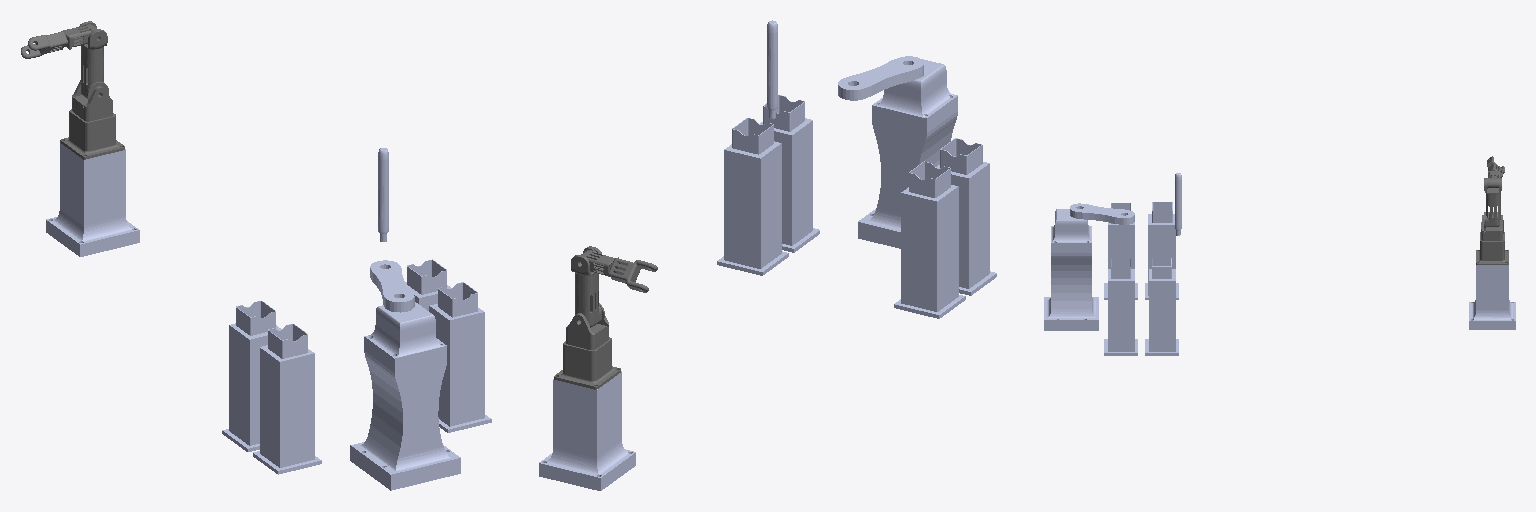
URDF robot description (full_station):
<?xml version="1.0" encoding="utf-8" ?>
<!-- This URDF was automatically created by SolidWorks to URDF Exporter! Originally created by [author] ([email redacted]) 
     Commit Version: 1.6.0-4-g7f85cfe  Build Version: 1.6.7995.38578
     For more information, please see http://wiki.ros.org/sw_urdf_exporter -->
<robot name="full_station">
    <link name="world_link">
        <inertial>
            <origin xyz="-0.379999991843833 -0.241999995946268 0.282642145469613" rpy="0 0 0" />
            <mass value="56.5143635061382" />
            <inertia ixx="3.10383758638064" ixy="9.38103874984871E-07" ixz="-4.57009880018058E-07" iyy="3.00109559506483" iyz="3.89931023770341E-08" izz="0.915005919197952" />
        </inertial>
        <visual>
            <origin xyz="0 0 0" rpy="0 0 0" />
            <geometry>
                <mesh filename="package://full_station/meshes/world_link.STL" />
            </geometry>
            <material name="">
                <color rgba="0.792156862745098 0.819607843137255 0.933333333333333 1" />
            </material>
        </visual>
        <collision>
            <origin xyz="0 0 0" rpy="0 0 0" />
            <geometry>
                <mesh filename="package://full_station/meshes/world_link.STL" />
            </geometry>
        </collision>
    </link>
    <link name="scara_link_base">
        <inertial>
            <origin xyz="4.11981024295294E-09 -0.00144952651535979 0.0824742549468586" rpy="0 0 0" />
            <mass value="10.0938987184175" />
            <inertia ixx="0.0864487528577416" ixy="-7.67600083955327E-08" ixz="-3.5428860438845E-09" iyy="0.0762174394798054" iyz="0.000783155397267453" izz="0.100368960083761" />
        </inertial>
        <visual>
            <origin xyz="0 0 0" rpy="0 0 0" />
            <geometry>
                <mesh filename="package://full_station/meshes/scara_link_base.STL" />
            </geometry>
            <material name="">
                <color rgba="0.792156862745098 0.819607843137255 0.933333333333333 1" />
            </material>
        </visual>
        <collision>
            <origin xyz="0 0 0" rpy="0 0 0" />
            <geometry>
                <mesh filename="package://full_station/meshes/scara_link_base.STL" />
            </geometry>
        </collision>
    </link>
    <joint name="scara_joint_base" type="fixed">
        <origin xyz="-0.38 -0.242 0.650000000000001" rpy="0 0 0" />
        <parent link="world_link" />
        <child link="scara_link_base" />
        <axis xyz="0 0 0" />
    </joint>
    <link name="scara_link_1">
        <inertial>
            <origin xyz="0.0554575444613901 0.165564551542507 0.0275000000000012" rpy="0 0 0" />
            <mass value="3.3230838247481" />
            <inertia ixx="0.0576270026353463" ixy="-0.0171642772796708" ixz="-2.70417399982433E-18" iyy="0.0119905480517804" iyz="-7.48561635465443E-18" izz="0.0679421595859383" />
        </inertial>
        <visual>
            <origin xyz="0 0 0" rpy="0 0 0" />
            <geometry>
                <mesh filename="package://full_station/meshes/scara_link_1.STL" />
            </geometry>
            <material name="">
                <color rgba="0.792156862745098 0.819607843137255 0.933333333333333 1" />
            </material>
        </visual>
        <collision>
            <origin xyz="0 0 0" rpy="0 0 0" />
            <geometry>
                <mesh filename="package://full_station/meshes/scara_link_1.STL" />
            </geometry>
        </collision>
    </link>
    <joint name="scara_joint_1" type="revolute">
        <origin xyz="0 0.0620000000000001 0.185999999999999" rpy="0 0 0" />
        <parent link="scara_link_base" />
        <child link="scara_link_1" />
        <axis xyz="0 0 -1" />
        <limit lower="-3" upper="3" effort="0" velocity="0" />
    </joint>
    <transmission name="scara_joint_1_trans">
        <type>transmission_interface/SimpleTransmission</type>
        <joint name="scara_joint_1">
            <hardwareInterface>hardware_interface/EffortJointInterface</hardwareInterface>
        </joint>
        <actuator name="scara_joint_1_motor">
            <hardwareInterface>hardware_interface/EffortJointInterface</hardwareInterface>
            <mechanicalReduction>1</mechanicalReduction>
        </actuator>
    </transmission>
    <link name="scara_link_2">
        <inertial>
            <origin xyz="0.084623793875894 0.153636740232548 0.109919168493605" rpy="0 0 0" />
            <mass value="17.9237237949378" />
            <inertia ixx="0.486676041203974" ixy="-0.20205161891764" ixz="0.0238411475845364" iyy="0.231136918692326" iyz="0.0432842419779889" izz="0.538887927908261" />
        </inertial>
        <visual>
            <origin xyz="0 0 0" rpy="0 0 0" />
            <geometry>
                <mesh filename="package://full_station/meshes/scara_link_2.STL" />
            </geometry>
            <material name="">
                <color rgba="0.792156862745098 0.819607843137255 0.933333333333333 1" />
            </material>
        </visual>
        <collision>
            <origin xyz="0 0 0" rpy="0 0 0" />
            <geometry>
                <mesh filename="package://full_station/meshes/scara_link_2.STL" />
            </geometry>
        </collision>
    </link>
    <joint name="scara_joint_2" type="revolute">
        <origin xyz="0.110915088922781 0.331544853874781 0.0550000000000013" rpy="0 0 0" />
        <parent link="scara_link_1" />
        <child link="scara_link_2" />
        <axis xyz="0 0 -1" />
        <limit lower="-3" upper="3" effort="0" velocity="0" />
    </joint>
    <transmission name="scara_joint_2_trans">
        <type>transmission_interface/SimpleTransmission</type>
        <joint name="scara_joint_2">
            <hardwareInterface>hardware_interface/EffortJointInterface</hardwareInterface>
        </joint>
        <actuator name="scara_joint_2_motor">
            <hardwareInterface>hardware_interface/EffortJointInterface</hardwareInterface>
            <mechanicalReduction>1</mechanicalReduction>
        </actuator>
    </transmission>
    <link name="scara_link_3">
        <inertial>
            <origin xyz="-5.48198860028659E-07 3.08047934466371E-07 -0.191819389863616" rpy="0 0 0" />
            <mass value="1.09878914470562" />
            <inertia ixx="0.0202026345558292" ixy="1.46163302702154E-08" ixz="-2.9902926720251E-09" iyy="0.0202026586253473" iyz="5.4617905886984E-09" izz="0.000398979796591897" />
        </inertial>
        <visual>
            <origin xyz="0 0 0" rpy="0 0 0" />
            <geometry>
                <mesh filename="package://full_station/meshes/scara_link_3.STL" />
            </geometry>
            <material name="">
                <color rgba="0.792156862745098 0.819607843137255 0.933333333333333 1" />
            </material>
        </visual>
        <collision>
            <origin xyz="0 0 0" rpy="0 0 0" />
            <geometry>
                <mesh filename="package://full_station/meshes/scara_link_3.STL" />
            </geometry>
        </collision>
    </link>
    <joint name="scara_joint_3" type="prismatic">
        <origin xyz="0.217106821845328 0.394163199586445 0" rpy="3.14159265358979 0 -3.14159265358979" />
        <parent link="scara_link_2" />
        <child link="scara_link_3" />
        <axis xyz="0 0 -1" />
        <limit lower="-0.25" upper="0" effort="0" velocity="0" />
    </joint>
    <transmission name="scara_joint_3_trans">
        <type>transmission_interface/SimpleTransmission</type>
        <joint name="scara_joint_3">
            <hardwareInterface>hardware_interface/EffortJointInterface</hardwareInterface>
        </joint>
        <actuator name="scara_joint_3_motor">
            <hardwareInterface>hardware_interface/EffortJointInterface</hardwareInterface>
            <mechanicalReduction>1</mechanicalReduction>
        </actuator>
    </transmission>
    <link name="boxes">
        <inertial>
            <origin xyz="0.360011118600684 0.27521364223783 0.278912194799361" rpy="0 0 0" />
            <mass value="99.0267308175771" />
            <inertia ixx="3.36896676113991" ixy="7.18898882228331E-11" ixz="-1.42061685293219E-06" iyy="3.36911900381237" iyz="-6.30751709577342E-09" izz="0.678298179608551" />
        </inertial>
        <visual>
            <origin xyz="0 0 0" rpy="0 0 0" />
            <geometry>
                <mesh filename="package://full_station/meshes/boxes.STL" />
            </geometry>
            <material name="">
                <color rgba="0.792156862745098 0.819607843137255 0.933333333333333 1" />
            </material>
        </visual>
        <collision>
            <origin xyz="0 0 0" rpy="0 0 0" />
            <geometry>
                <mesh filename="package://full_station/meshes/boxes.STL" />
            </geometry>
        </collision>
    </link>
    <joint name="boxes" type="fixed">
        <origin xyz="-0.719999999999999 0 0" rpy="0 0 0" />
        <parent link="world_link" />
        <child link="boxes" />
        <axis xyz="0 0 0" />
    </joint>
    <link name="knickarm_sockel">
        <inertial>
            <origin xyz="0.170000000008435 0.170000000008423 0.222253510440883" rpy="0 0 0" />
            <mass value="33.1902670854663" />
            <inertia ixx="0.969242711259421" ixy="1.13981229226797E-16" ixz="3.18871186988929E-11" iyy="0.96924271125942" iyz="3.18429907094299E-11" izz="0.397801462826718" />
        </inertial>
        <visual>
            <origin xyz="0 0 0" rpy="0 0 0" />
            <geometry>
                <mesh filename="package://full_station/meshes/knickarm_sockel.STL" />
            </geometry>
            <material name="">
                <color rgba="0.792156862745098 0.819607843137255 0.933333333333333 1" />
            </material>
        </visual>
        <collision>
            <origin xyz="0 0 0" rpy="0 0 0" />
            <geometry>
                <mesh filename="package://full_station/meshes/knickarm_sockel.STL" />
            </geometry>
        </collision>
    </link>
    <joint name="knickarm_sockel" type="fixed">
        <origin xyz="-0.545000000000015 2.693 -0.0199999999999988" rpy="0 0 0" />
        <parent link="world_link" />
        <child link="knickarm_sockel" />
        <axis xyz="0 0 0" />
    </joint>
    <link name="knick_base_link">
        <inertial>
            <origin xyz="5.55111512312578E-17 0 0.0831886098900351" rpy="0 0 0" />
            <mass value="6.13619139503562" />
            <inertia ixx="0.0358502952817987" ixy="1.65606190844546E-17" ixz="-3.68720774113041E-19" iyy="0.0358502952817986" iyz="-2.56092993185703E-17" izz="0.0367184665537518" />
        </inertial>
        <visual>
            <origin xyz="0 0 0" rpy="0 0 0" />
            <geometry>
                <mesh filename="package://full_station/meshes/knick_base_link.STL" />
            </geometry>
            <material name="">
                <color rgba="0.501960784313725 0.501960784313725 0.501960784313725 1" />
            </material>
        </visual>
        <collision>
            <origin xyz="0 0 0" rpy="0 0 0" />
            <geometry>
                <mesh filename="package://full_station/meshes/knick_base_link.STL" />
            </geometry>
        </collision>
    </link>
    <joint name="knick_base_joint" type="fixed">
        <origin xyz="0.17 0.17 0.5" rpy="0 0 0" />
        <parent link="knickarm_sockel" />
        <child link="knick_base_link" />
        <axis xyz="0 0 0" />
    </joint>
    <link name="knick_link1">
        <inertial>
            <origin xyz="2.39423167756603E-05 0.00102403641797855 0.0522188072773566" rpy="0 0 0" />
            <mass value="1.51482515033565" />
            <inertia ixx="0.00708081683843717" ixy="-3.18073734412142E-05" ixz="-4.8955229667811E-07" iyy="0.00592760506272545" iyz="-3.16730446962943E-05" izz="0.0078063707821689" />
        </inertial>
        <visual>
            <origin xyz="0 0 0" rpy="0 0 0" />
            <geometry>
                <mesh filename="package://full_station/meshes/knick_link1.STL" />
            </geometry>
            <material name="">
                <color rgba="0.501960784313725 0.501960784313725 0.501960784313725 1" />
            </material>
        </visual>
        <collision>
            <origin xyz="0 0 0" rpy="0 0 0" />
            <geometry>
                <mesh filename="package://full_station/meshes/knick_link1.STL" />
            </geometry>
        </collision>
    </link>
    <joint name="knick_joint1" type="revolute">
        <origin xyz="0 0 0.18" rpy="0 0 0" />
        <parent link="knick_base_link" />
        <child link="knick_link1" />
        <axis xyz="0 0 1" />
        <limit lower="-3" upper="3" effort="0" velocity="0" />
    </joint>
    <link name="knick_link2">
        <inertial>
            <origin xyz="-0.000580010533334285 0.124434477958655 0.0617606410401219" rpy="0 0 0" />
            <mass value="2.94963527631575" />
            <inertia ixx="0.0344799903914058" ixy="0.000133040596631677" ixz="5.49706087176697E-06" iyy="0.00576942266119528" iyz="-0.0011771812595786" izz="0.0330918819874674" />
        </inertial>
        <visual>
            <origin xyz="0 0 0" rpy="0 0 0" />
            <geometry>
                <mesh filename="package://full_station/meshes/knick_link2.STL" />
            </geometry>
            <material name="">
                <color rgba="0.501960784313725 0.501960784313725 0.501960784313725 1" />
            </material>
        </visual>
        <collision>
            <origin xyz="0 0 0" rpy="0 0 0" />
            <geometry>
                <mesh filename="package://full_station/meshes/knick_link2.STL" />
            </geometry>
        </collision>
    </link>
    <joint name="knick_joint2" type="revolute">
        <origin xyz="-0.00165 -0.059977 0.13" rpy="1.5708 0 3.1141" />
        <parent link="knick_link1" />
        <child link="knick_link2" />
        <axis xyz="0 0 1" />
        <limit lower="-3" upper="3" effort="0" velocity="0" />
    </joint>
    <link name="knick_link3">
        <inertial>
            <origin xyz="0.0441723440748648 -0.00065136911012198 0.0473648856449347" rpy="0 0 0" />
            <mass value="0.491452048874692" />
            <inertia ixx="0.000710130357342417" ixy="2.32045591692405E-05" ixz="-5.96547087771957E-05" iyy="0.00227833564890925" iyz="8.87130734897127E-07" izz="0.00208349964692459" />
        </inertial>
        <visual>
            <origin xyz="0 0 0" rpy="0 0 0" />
            <geometry>
                <mesh filename="package://full_station/meshes/knick_link3.STL" />
            </geometry>
            <material name="">
                <color rgba="0.501960784313725 0.501960784313725 0.501960784313725 1" />
            </material>
        </visual>
        <collision>
            <origin xyz="0 0 0" rpy="0 0 0" />
            <geometry>
                <mesh filename="package://full_station/meshes/knick_link3.STL" />
            </geometry>
        </collision>
    </link>
    <joint name="knick_joint3" type="revolute">
        <origin xyz="-0.001388 0.3 0.02" rpy="0 0 0" />
        <parent link="knick_link2" />
        <child link="knick_link3" />
        <axis xyz="0 0 1" />
        <limit lower="-3" upper="3" effort="0" velocity="0" />
    </joint>
    <link name="knick_link4">
        <inertial>
            <origin xyz="-0.00395674465268137 -0.00218916988557405 0.0896016912003235" rpy="0 0 0" />
            <mass value="0.988047540426667" />
            <inertia ixx="0.00442694774576685" ixy="-0.000550683937875435" ixz="5.02230554909782E-06" iyy="0.00443613262648138" iyz="4.98057120320931E-06" izz="0.00182866826457323" />
        </inertial>
        <visual>
            <origin xyz="0 0 0" rpy="0 0 0" />
            <geometry>
                <mesh filename="package://full_station/meshes/knick_link4.STL" />
            </geometry>
            <material name="">
                <color rgba="0.501960784313725 0.501960784313725 0.501960784313725 1" />
            </material>
        </visual>
        <collision>
            <origin xyz="0 0 0" rpy="0 0 0" />
            <geometry>
                <mesh filename="package://full_station/meshes/knick_link4.STL" />
            </geometry>
        </collision>
    </link>
    <joint name="knick_joint4" type="revolute">
        <origin xyz="0.15497 -0.0031424 0.052879" rpy="-0.14998 1.5708 -0.16421" />
        <parent link="knick_link3" />
        <child link="knick_link4" />
        <axis xyz="0 0 1" />
        <limit lower="-3" upper="3" effort="0" velocity="0" />
    </joint>
    <link name="drucker">
        <inertial>
            <origin xyz="0.572537656406128 -0.700249299121331 -0.546272488863445" rpy="0 0 0" />
            <mass value="203.381909850338" />
            <inertia ixx="75.6220793106237" ixy="0.00340986132485304" ixz="4.81909365212624" iyy="51.1296841049711" iyz="-0.0024226603580731" izz="58.8077897229188" />
        </inertial>
        <visual>
            <origin xyz="0 0 0" rpy="0 0 0" />
            <geometry>
                <mesh filename="package://full_station/meshes/drucker.STL" />
            </geometry>
            <material name="">
                <color rgba="0.752941176470588 0.752941176470588 0.752941176470588 1" />
            </material>
        </visual>
        <collision>
            <origin xyz="0 0 0" rpy="0 0 0" />
            <geometry>
                <mesh filename="package://full_station/meshes/drucker.STL" />
            </geometry>
        </collision>
    </link>
    <joint name="drucker" type="fixed">
        <origin xyz="-1.07 2.523 -0.02" rpy="1.5708 -1.5708 0" />
        <parent link="world_link" />
        <child link="drucker" />
        <axis xyz="0 0 0" />
    </joint>
    <transmission name="trans_knick_joint1">
        <type>transmission_interface/SimpleTransmission</type>
        <joint name="knick_joint1">
            <hardwareInterface>hardware_interface/EffortJointInterface</hardwareInterface>
        </joint>
        <actuator name="knick_joint1_motor">
            <hardwareInterface>hardware_interface/EffortJointInterface</hardwareInterface>
            <mechanicalReduction>1</mechanicalReduction>
        </actuator>
    </transmission>
    <transmission name="trans_knick_joint2">
        <type>transmission_interface/SimpleTransmission</type>
        <joint name="knick_joint2">
            <hardwareInterface>hardware_interface/EffortJointInterface</hardwareInterface>
        </joint>
        <actuator name="knick_joint2_motor">
            <hardwareInterface>hardware_interface/EffortJointInterface</hardwareInterface>
            <mechanicalReduction>1</mechanicalReduction>
        </actuator>
    </transmission>
    <transmission name="trans_knick_joint3">
        <type>transmission_interface/SimpleTransmission</type>
        <joint name="knick_joint3">
            <hardwareInterface>hardware_interface/EffortJointInterface</hardwareInterface>
        </joint>
        <actuator name="knick_joint3_motor">
            <hardwareInterface>hardware_interface/EffortJointInterface</hardwareInterface>
            <mechanicalReduction>1</mechanicalReduction>
        </actuator>
    </transmission>
    <transmission name="trans_knick_joint4">
        <type>transmission_interface/SimpleTransmission</type>
        <joint name="knick_joint4">
            <hardwareInterface>hardware_interface/EffortJointInterface</hardwareInterface>
        </joint>
        <actuator name="knick_joint4_motor">
            <hardwareInterface>hardware_interface/EffortJointInterface</hardwareInterface>
            <mechanicalReduction>1</mechanicalReduction>
        </actuator>
    </transmission>
    <gazebo>
        <plugin name="gazebo_ros_control" filename="libgazebo_ros_control.so">
            <robotNamespace>/</robotNamespace>
        </plugin>
    </gazebo>
</robot>

--- What the picture shows (computed from the rendered views, not written in the file) ---
Views: 3 orthographic renders of the robot side by side, from view 1: azimuth 30°, elevation 25°; view 2: azimuth 150°, elevation 25°; view 3: azimuth 270°, elevation 25°.
Model full_station with 13 links and 12 joints (6 revolute, 1 prismatic, 5 fixed), rooted at world_link, posed all joints at 0.
Visible links, largest first — view 1: boxes, world_link, knickarm_sockel, scara_link_base, knick_base_link, scara_link_1, knick_link2, knick_link1, scara_link_3, knick_link4; view 2: boxes, knickarm_sockel, world_link, scara_link_base, scara_link_1, knick_base_link, knick_link2, knick_link1, scara_link_3, knick_link4; view 3: boxes, world_link, knickarm_sockel, scara_link_base, scara_link_1, knick_base_link, knick_link2.
Boxes of the visible links, box(x1,y1,x2,y2) form: boxes: box(222, 259, 491, 474); world_link: box(350, 340, 460, 490); knickarm_sockel: box(46, 143, 139, 256); scara_link_base: box(364, 302, 446, 361); knick_base_link: box(60, 109, 124, 159); scara_link_1: box(370, 260, 414, 312); knick_link2: box(79, 21, 108, 100); knick_link1: box(72, 80, 112, 121); scara_link_3: box(378, 148, 388, 241); knick_link4: box(21, 31, 78, 58); boxes: box(717, 95, 996, 318); knickarm_sockel: box(539, 371, 635, 490); world_link: box(858, 100, 957, 248); scara_link_base: box(872, 59, 957, 121); scara_link_1: box(838, 56, 923, 100); knick_base_link: box(554, 337, 620, 389); knick_link2: box(571, 246, 604, 327); knick_link1: box(566, 313, 608, 349); scara_link_3: box(767, 20, 777, 118); knick_link4: box(598, 258, 657, 292); boxes: box(1104, 202, 1178, 355); world_link: box(1044, 246, 1098, 330); knickarm_sockel: box(1469, 265, 1515, 329); scara_link_base: box(1051, 209, 1091, 245); scara_link_1: box(1070, 203, 1134, 224); knick_base_link: box(1476, 232, 1508, 264); knick_link2: box(1484, 178, 1501, 227).
Size in the robot's own frame: 1.22 by 3.48 by 1.34 metres.
Meshes: 13 distinct files referenced, 11 mesh visuals loaded (11 binary STL); not drawn: 2 (reference not matched to a file when rendering).
